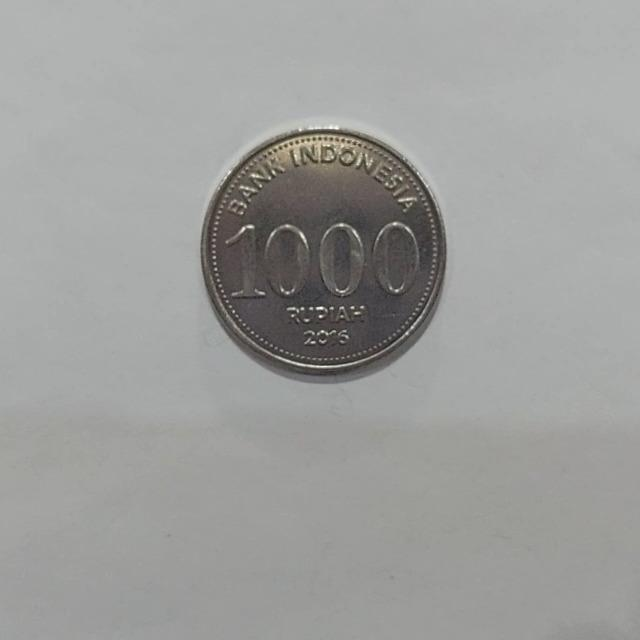Rp100: (198, 122, 447, 380)
